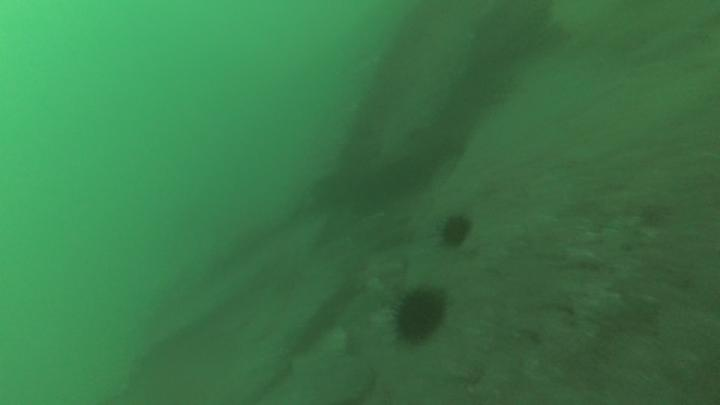echinus: (397, 292, 444, 342), (442, 216, 469, 244)
